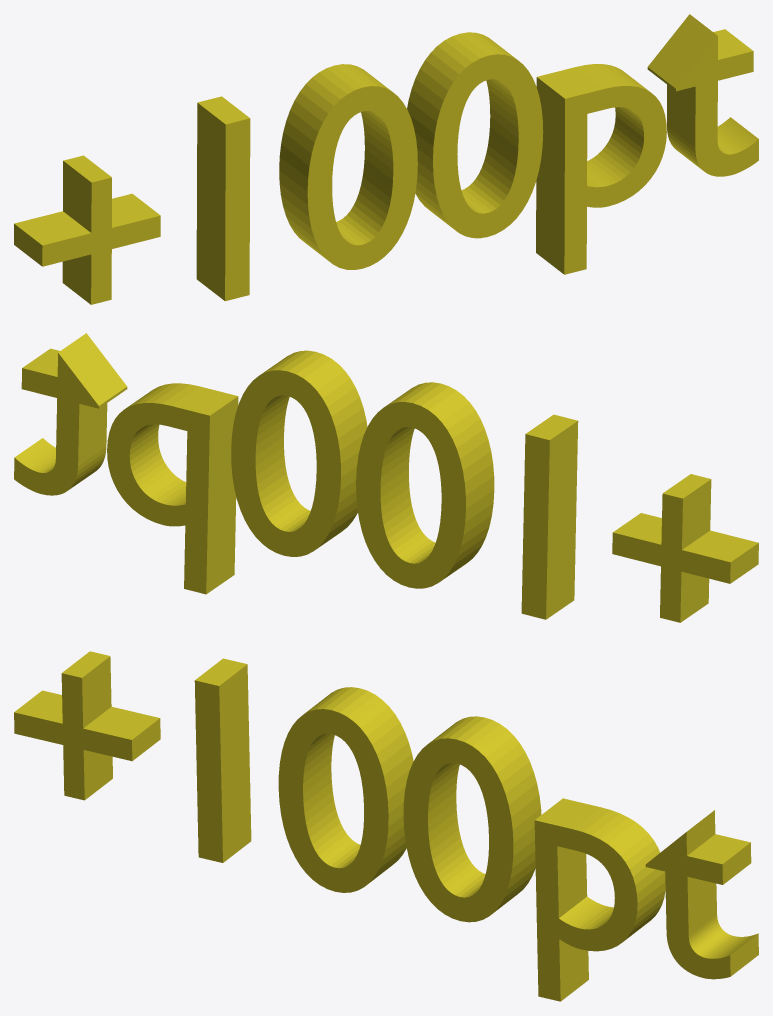
Rendered from point.dae.
The picture shows the model from 3 angles, top to bottom: view 1: azimuth 30°, elevation 25°; view 2: azimuth 150°, elevation 25°; view 3: azimuth 330°, elevation 25°; orthographic projection.
Parts seen in each view (by area): view 1: Text; view 2: Text; view 3: Text.
Part boxes in pixels (x1,y1,x2,y2): Text: [14, 14, 758, 304]; Text: [14, 333, 758, 622]; Text: [14, 651, 758, 1001].
Size of the model in its own units: 2.86 by 0.2175 by 0.9224.
